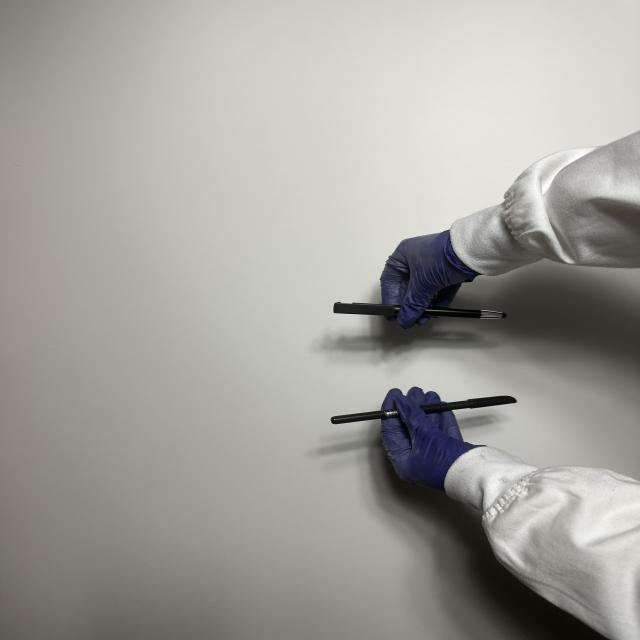gloves_contaminated: (381, 387, 477, 491), (380, 231, 478, 328)
